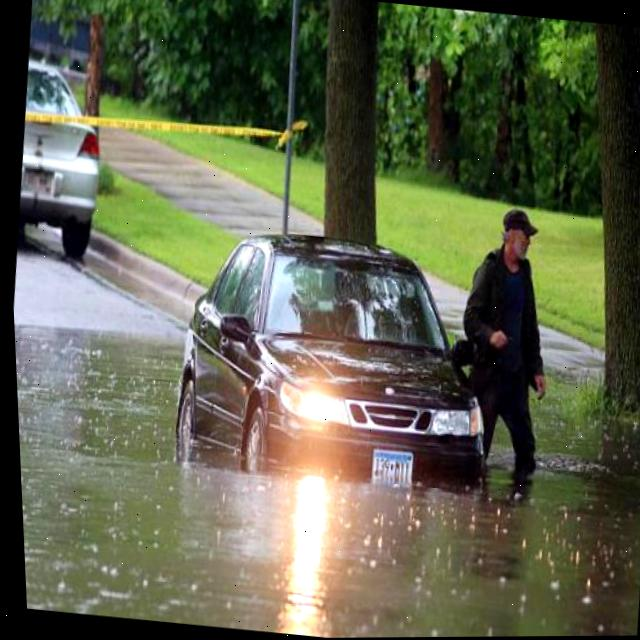civilian: (421, 184, 586, 488)
